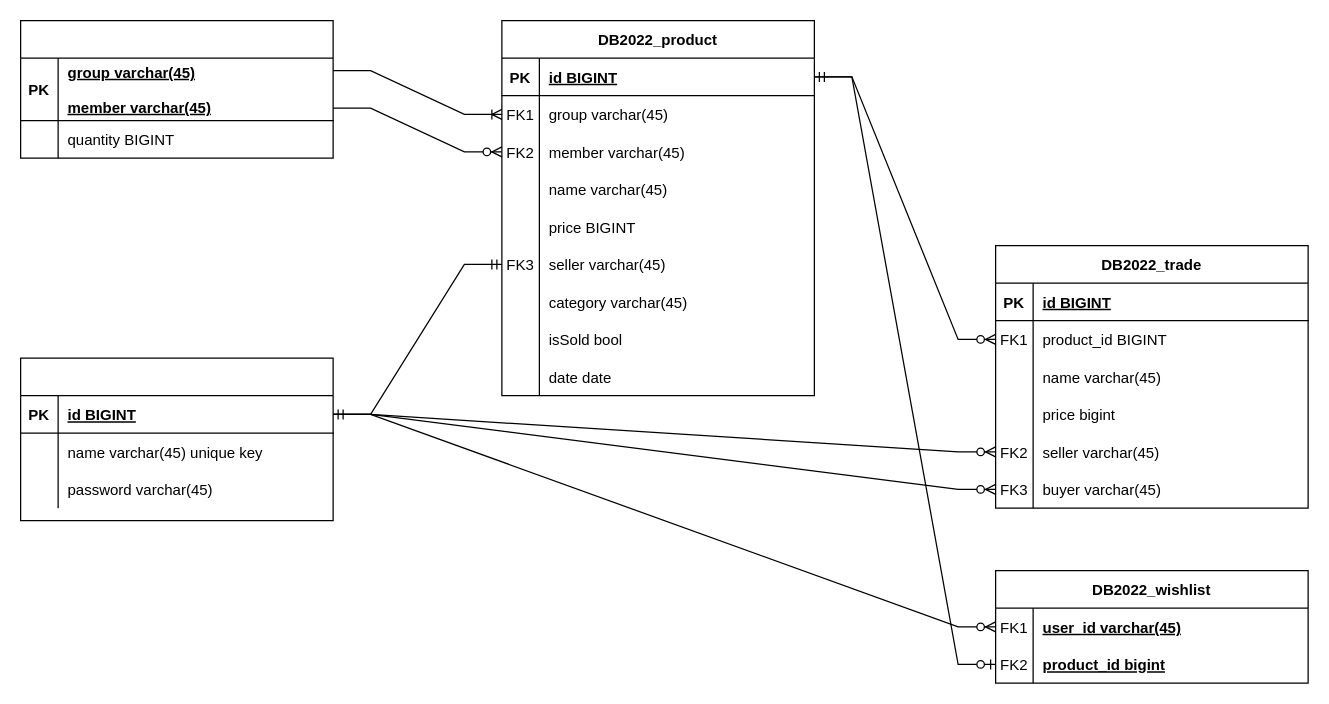
This 1329x704 diagram has some shape labels left out. The shapes that lost their labels are listed below. From the top down, each one's box as (x1, y1, x2, y2) in pixels, then its label:
(19, 19, 333, 158): DB2022_idol
(19, 357, 333, 521): DB2022_user
